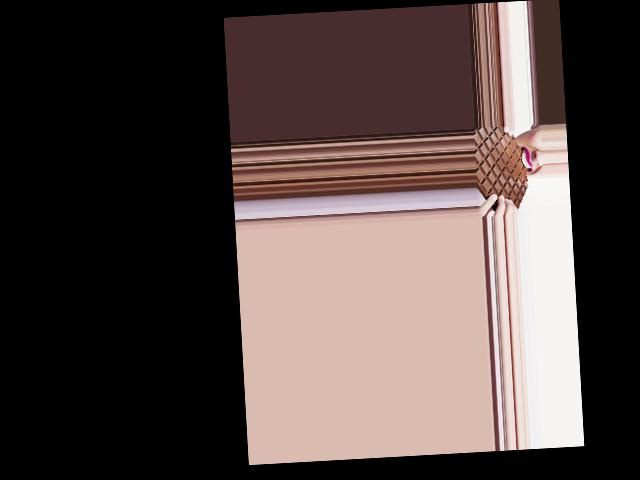chocolate: (473, 125, 531, 217)
